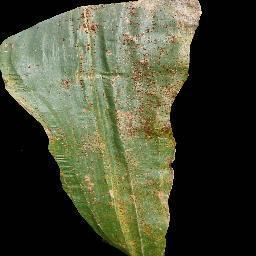Corn_Common_Rust: (0, 0, 223, 256), (113, 0, 117, 10)
